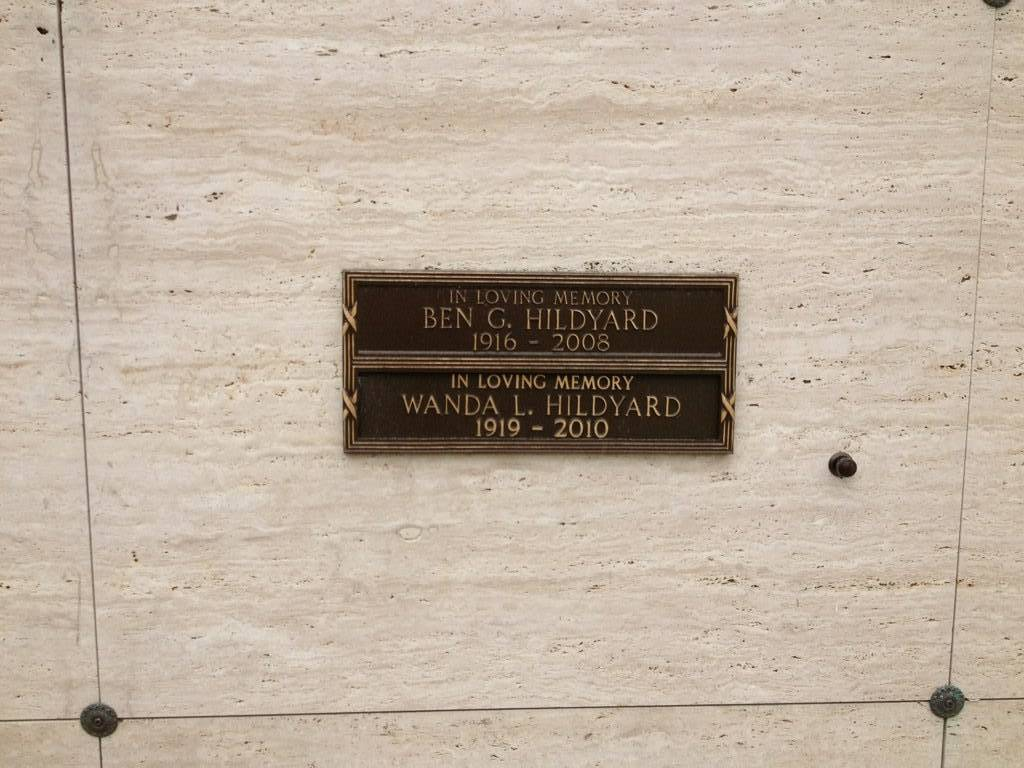plaque: (320, 254, 751, 480)
